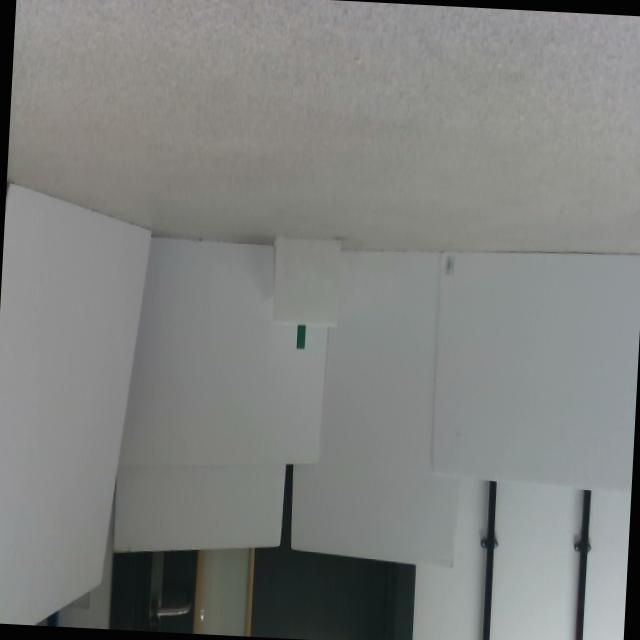green_cylinder: (296, 324, 306, 350)
